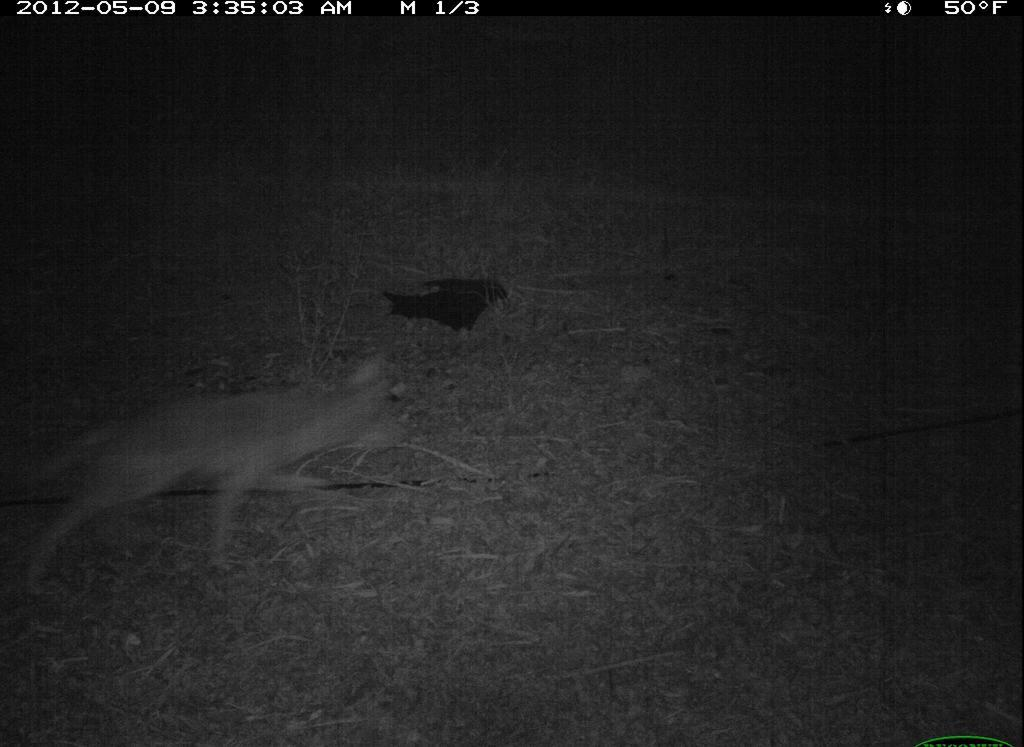coyote: (16, 346, 424, 589)
